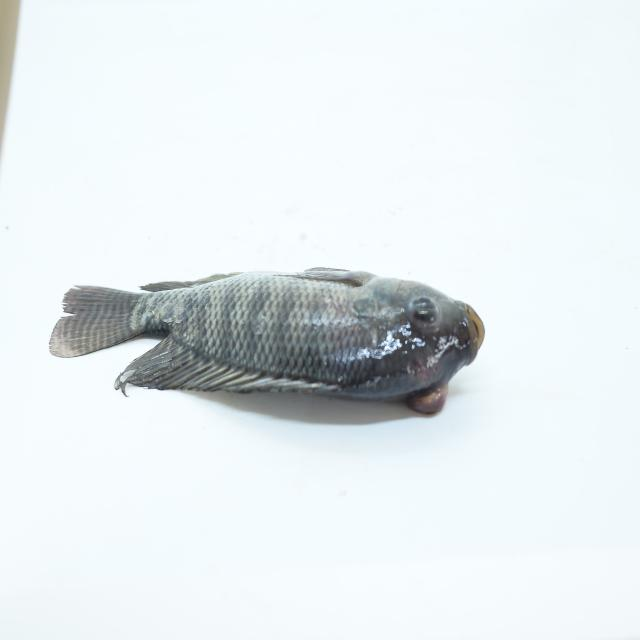streptococcus Disease: (48, 261, 490, 415)
